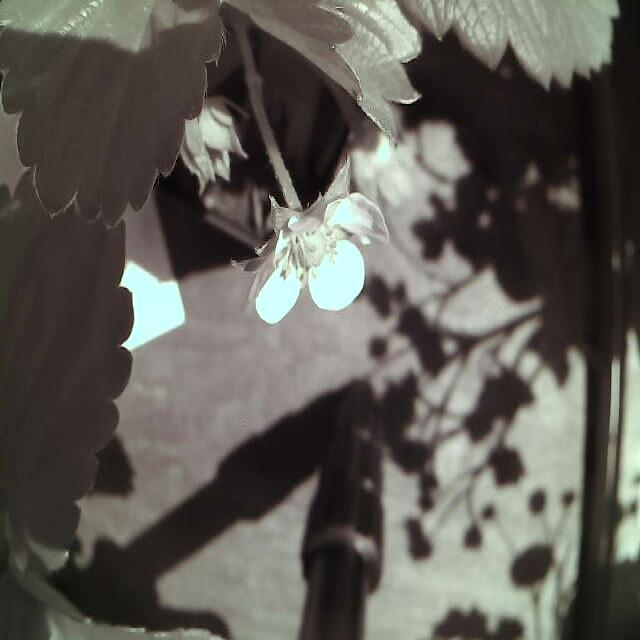flower: (250, 181, 400, 330)
